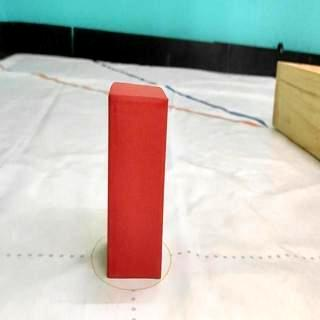redbox: (108, 80, 167, 280)
